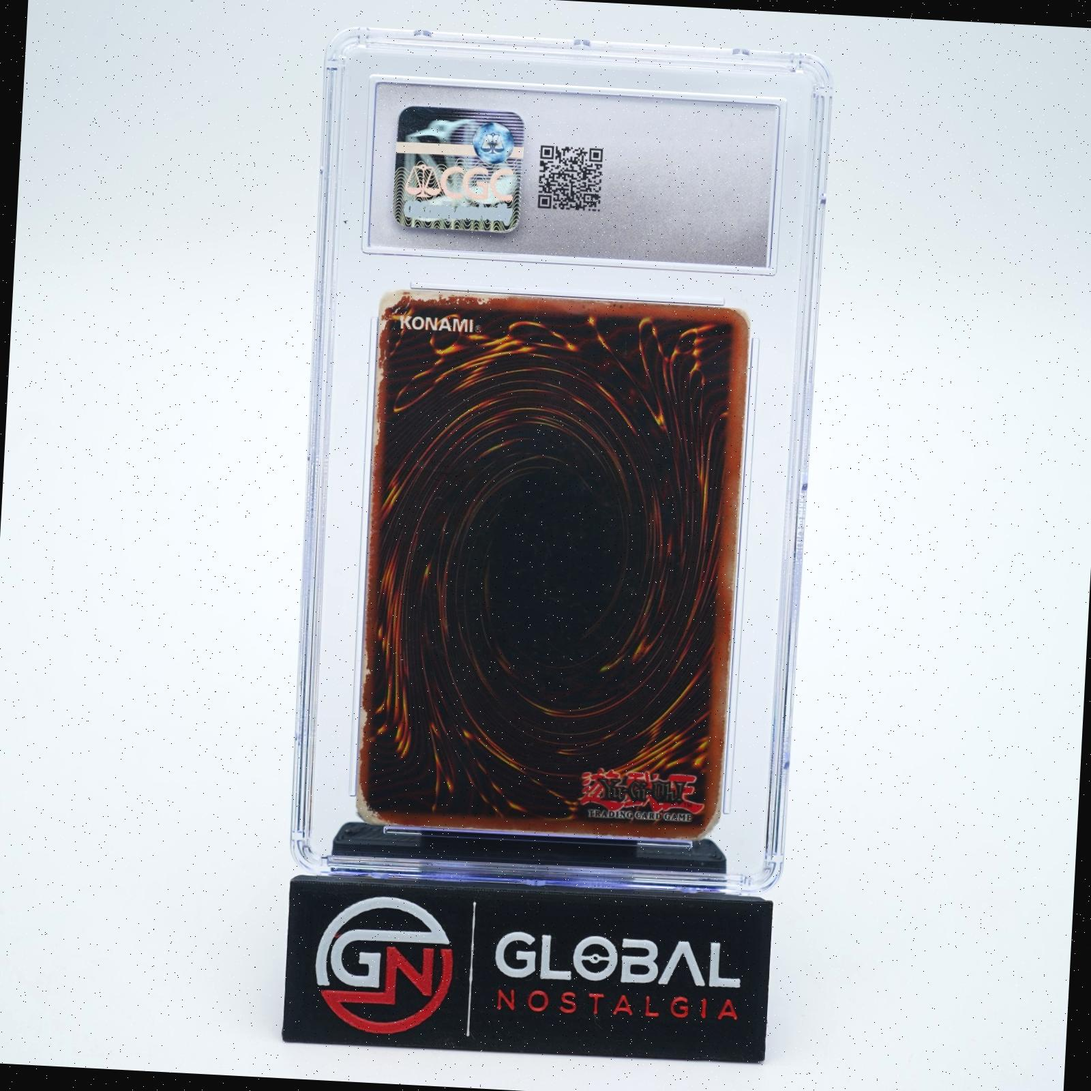card-2UtV: (355, 288, 750, 840)
